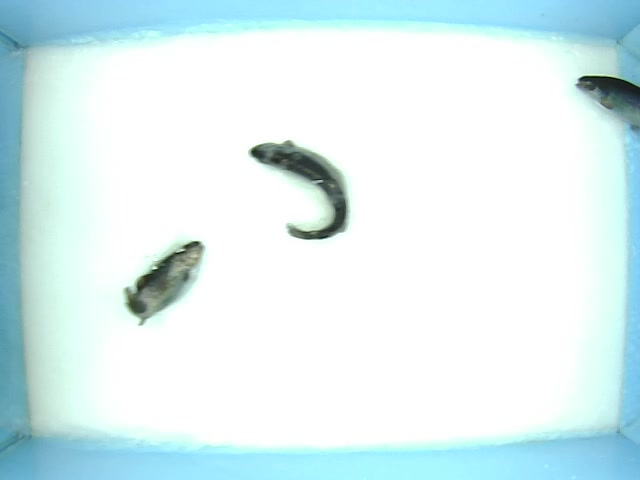fish: (238, 134, 369, 249), (114, 243, 224, 335), (571, 64, 640, 126)
